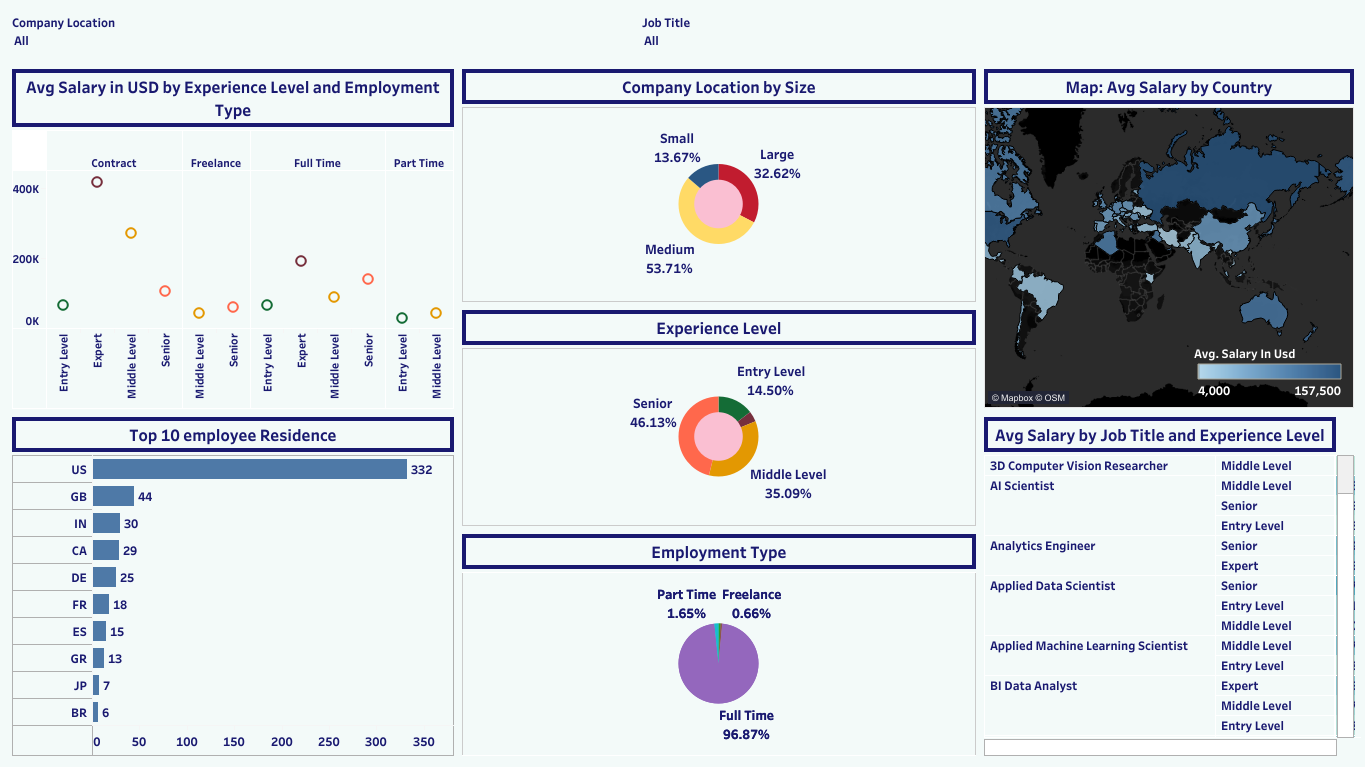

The page's visual inventory and layout, read from the dashboard file:
{"tool":"tableau","page":{"name":"Viz","canvas":[1366,768],"ordinal":0},"visuals":[{"type":"filter","title":"Avg Salary in USD by Experience Level and Employment Type","param":"[federated.1jsqps71aoca6h18xg92x1o9mzig].[none:company_location:nk]","box":[8,8,630,56]},{"type":"filter","title":"Map: Avg Salary by Country","param":"[federated.1jsqps71aoca6h18xg92x1o9mzig].[none:job_title:nk]","box":[638,8,720,57]},{"type":"worksheet","title":"Avg Salary in USD by Experience Level and Employment Type","mark":"Shape","rows":["salary_in_usd"],"cols":["employment_type","experience_level"],"box":[8,65,450,348]},{"type":"worksheet","title":"Company Location by Size","mark":"Pie","rows":["Calculation_1060175508167450777","Calculation_1060175508167450777"],"box":[458,65,522,241]},{"type":"worksheet","title":"Map: Avg Salary by Country","mark":"Automatic","box":[980,65,378,347.5]},{"type":"worksheet","title":"Experience Level","mark":"Pie","rows":["Calculation_1060175508167450777","Calculation_1060175508167450777"],"box":[458,306,522,224]},{"type":"legend","title":"Map: Avg Salary by Country","param":"[federated.1jsqps71aoca6h18xg92x1o9mzig].[avg:salary_in_usd:qk]","box":[1194,340,152,79]},{"type":"worksheet","title":"Avg Salary by Job Title and Experience Level","mark":"Square","rows":["job_title","experience_level"],"box":[980,412.5,378,347.5]},{"type":"worksheet","title":"Top 10 employee Residence","mark":"Automatic","rows":["employee_residence"],"cols":["employee_residence"],"box":[8,413,450,347]},{"type":"worksheet","title":"Employment Type","mark":"Pie","rows":["Calculation_1060175508167450777","Calculation_1060175508167450777"],"box":[458,530,522,230]}]}

Visuals, with their boxes in screenshot pixels (x1, y1, x2, y2), scaled from the page's 1366x768 canvas onto the 1365x767 screenshot:
"Avg Salary in USD by Experience Level and Employment Type" filter: Rect(8, 8, 638, 64)
"Map: Avg Salary by Country" filter: Rect(638, 8, 1357, 65)
"Avg Salary in USD by Experience Level and Employment Type" worksheet (Shape marks): Rect(8, 65, 458, 412)
"Company Location by Size" worksheet (Pie marks): Rect(458, 65, 979, 306)
"Map: Avg Salary by Country" worksheet: Rect(979, 65, 1357, 412)
"Experience Level" worksheet (Pie marks): Rect(458, 306, 979, 529)
"Map: Avg Salary by Country" legend: Rect(1193, 340, 1345, 418)
"Avg Salary by Job Title and Experience Level" worksheet (Square marks): Rect(979, 412, 1357, 759)
"Top 10 employee Residence" worksheet: Rect(8, 412, 458, 759)
"Employment Type" worksheet (Pie marks): Rect(458, 529, 979, 759)
